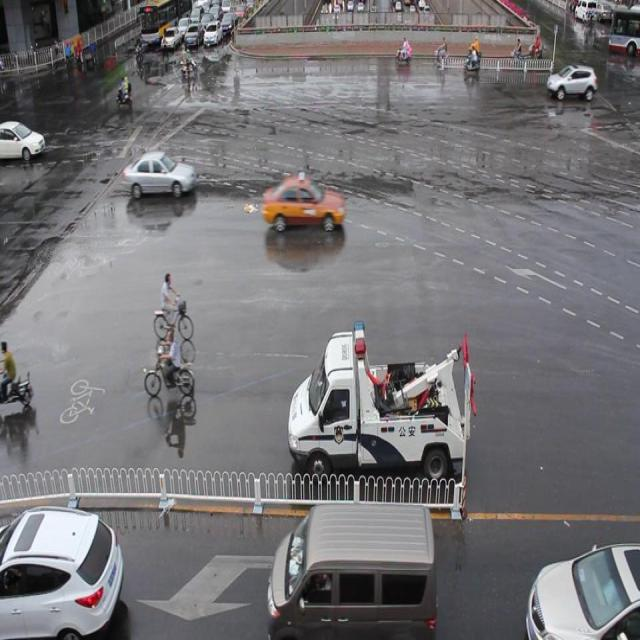bus: (289, 308, 475, 475)
car: (0, 503, 123, 640), (525, 539, 640, 640), (260, 171, 346, 232), (124, 152, 196, 198), (545, 61, 596, 103)
truck: (266, 499, 436, 640)
